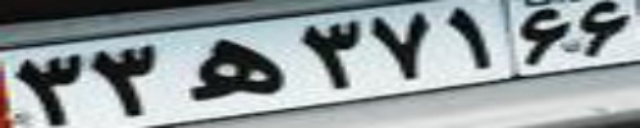1: (448, 6, 489, 70)
3: (16, 51, 83, 126), (93, 42, 153, 117), (301, 18, 361, 88)
6: (517, 7, 569, 64), (577, 1, 629, 56)
7: (370, 10, 432, 81)
he: (186, 36, 288, 101)
